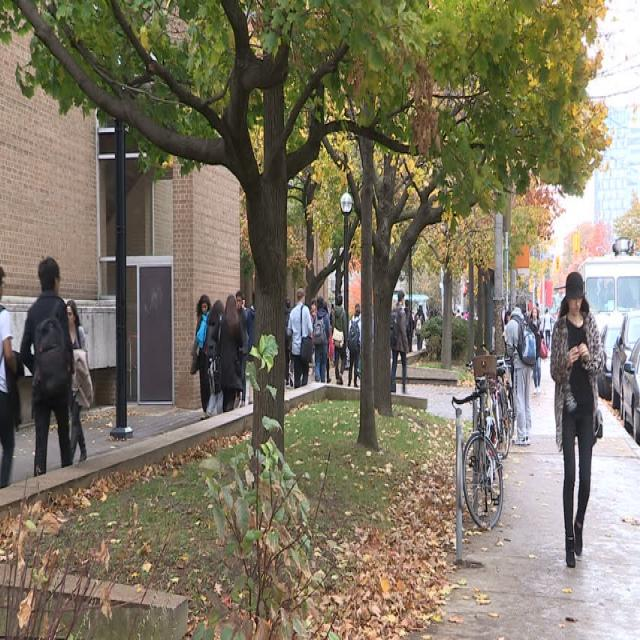body: (548, 267, 606, 572), (18, 253, 77, 479), (500, 302, 538, 450), (64, 296, 95, 468), (0, 264, 23, 491), (211, 292, 245, 415), (188, 290, 213, 422), (286, 286, 315, 390), (204, 296, 226, 420), (388, 288, 410, 397), (233, 290, 250, 410), (526, 305, 548, 396), (526, 304, 548, 395), (329, 292, 349, 388), (312, 297, 330, 384), (244, 289, 256, 408), (346, 306, 362, 390), (428, 303, 476, 324), (284, 297, 294, 391), (322, 300, 332, 384), (308, 298, 318, 378), (403, 297, 414, 355), (541, 305, 553, 352), (414, 304, 425, 351), (521, 296, 542, 319), (415, 304, 425, 352), (351, 302, 363, 322), (328, 299, 334, 325)
